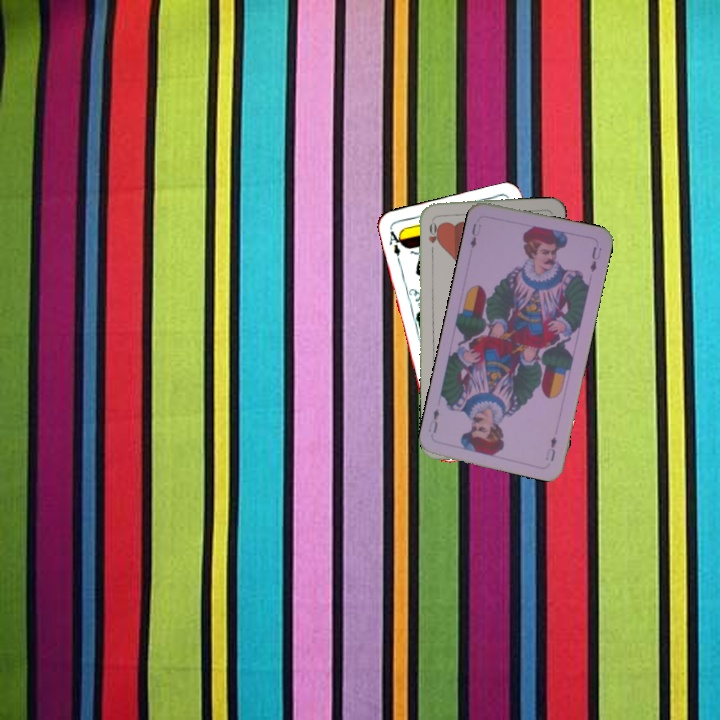EA: (385, 225, 406, 258)
EU: (541, 433, 560, 464), (466, 219, 484, 251)
HO: (424, 215, 440, 255)
